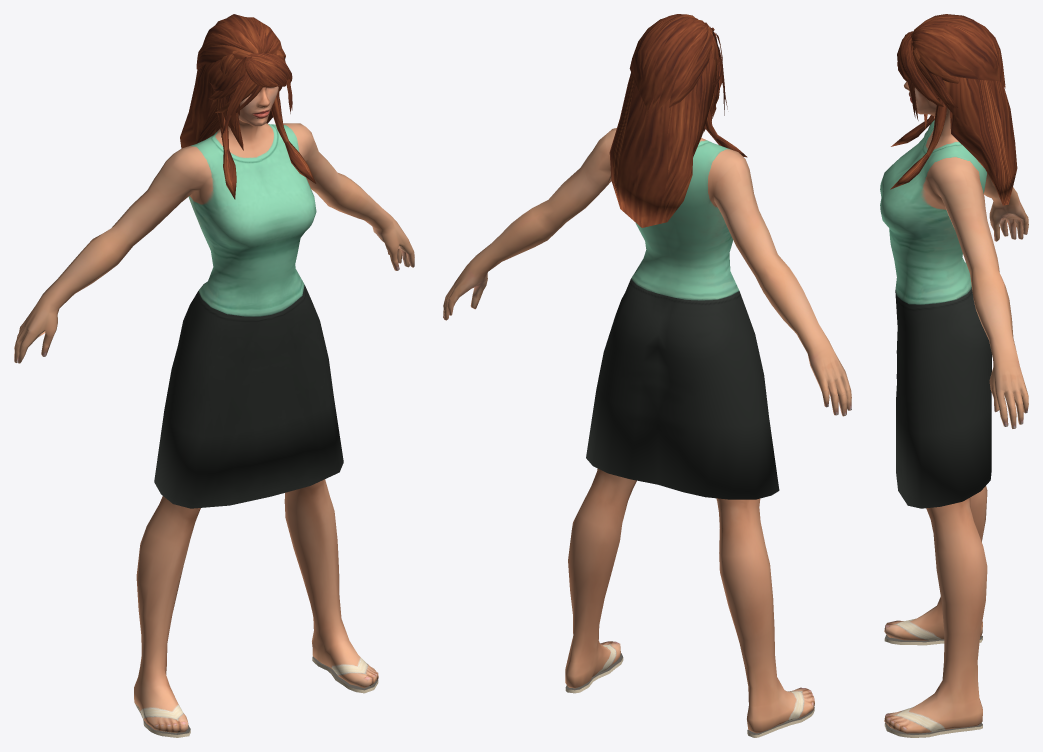
The model's file is girl2.fbx.
3 renders of one model, left to right at view 1: azimuth 30°, elevation 25°; view 2: azimuth 150°, elevation 25°; view 3: azimuth 270°, elevation 25°, orthographic. The views are drawn at different scales.
Visible parts, largest first — view 1: Girl2; view 2: Girl2; view 3: Girl2.
Part boxes in pixels (x1=…): Girl2: x1=14, y1=14, x2=414, y2=737; Girl2: x1=443, y1=14, x2=851, y2=737; Girl2: x1=880, y1=14, x2=1028, y2=737.
Bounding box in the file's own units: 119 × 193 × 39.07.
1 material, 1 textured.
